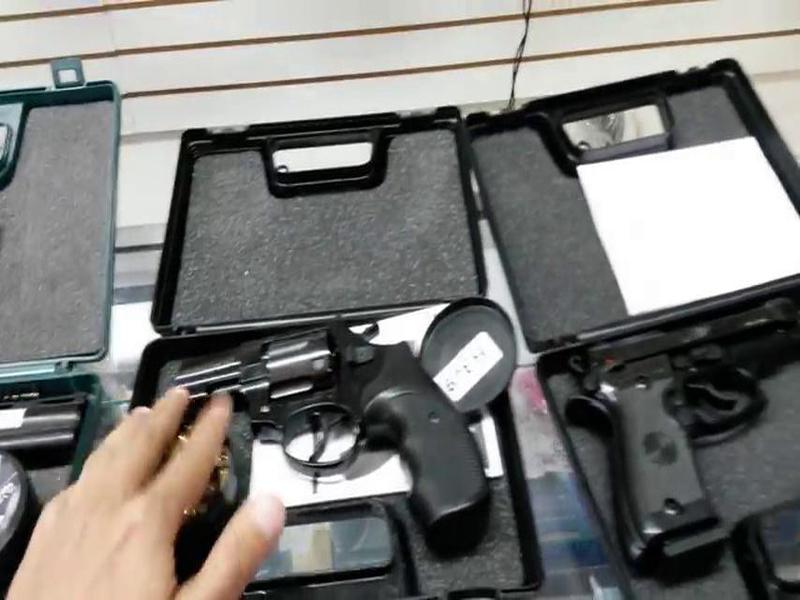Revolver: (167, 312, 493, 543)
